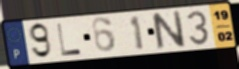1: (128, 14, 145, 52)
3: (184, 9, 211, 47)
6: (92, 15, 118, 57)
9: (27, 23, 53, 61)
L: (55, 22, 84, 58)
N: (149, 9, 188, 52)
